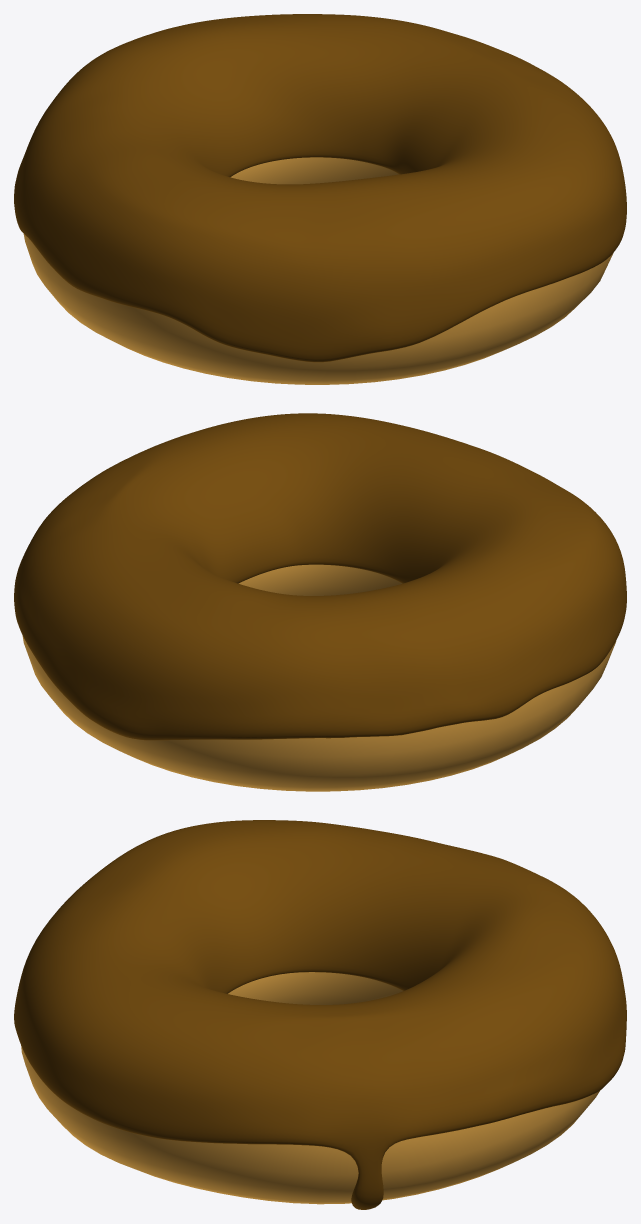
File: doughnutmonogame.fbx
3 renders of one model, top to bottom at view 1: azimuth 30°, elevation 25°; view 2: azimuth 150°, elevation 25°; view 3: azimuth 270°, elevation 25°, orthographic.
Parts seen in each view (by area): view 1: Icing, Dough; view 2: Icing, Dough; view 3: Icing, Dough.
Part boxes in pixels (x1,y1,x2,y2): Icing: (14, 14, 626, 362); Dough: (23, 157, 613, 384); Icing: (14, 413, 626, 740); Dough: (22, 564, 616, 791); Icing: (14, 820, 626, 1209); Dough: (21, 972, 599, 1204).
Bounding box in the file's own units: 299 × 96.33 × 295.
